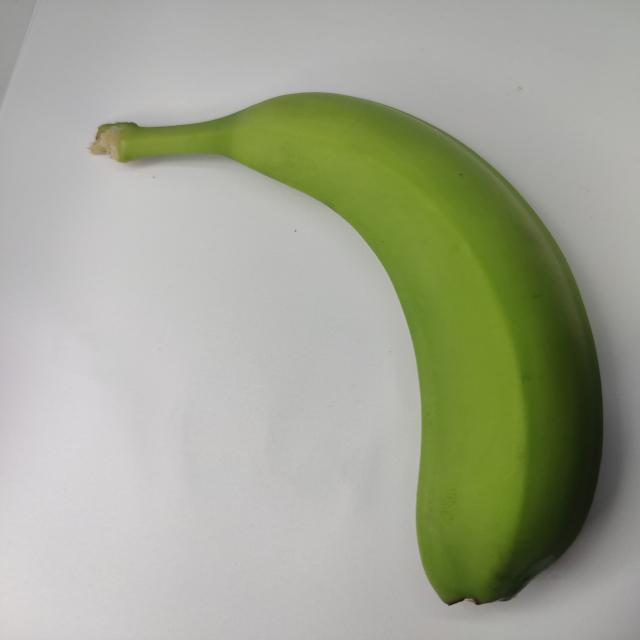raw: (74, 64, 640, 620)
